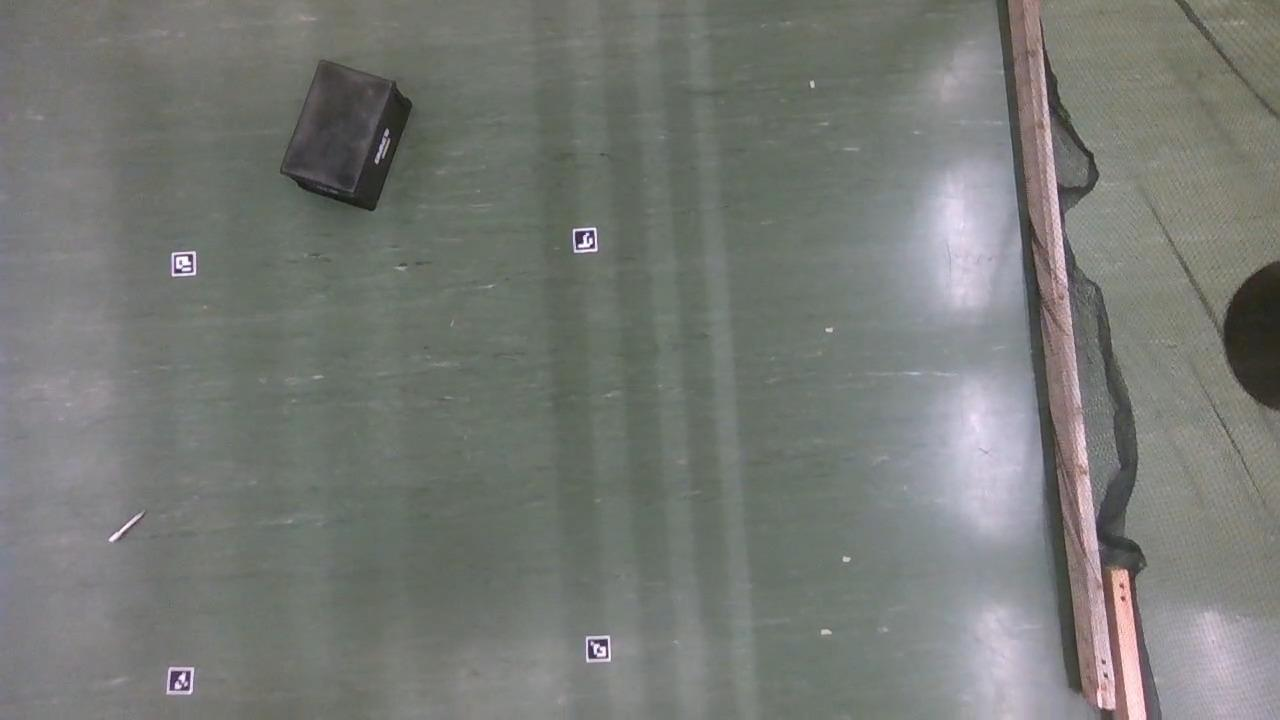probes: (108, 510, 144, 543)
rako: (279, 59, 413, 212)
